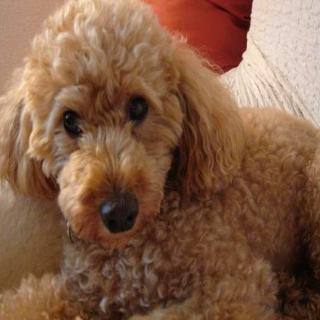dog: (6, 0, 240, 254)
nose: (97, 194, 142, 236)
